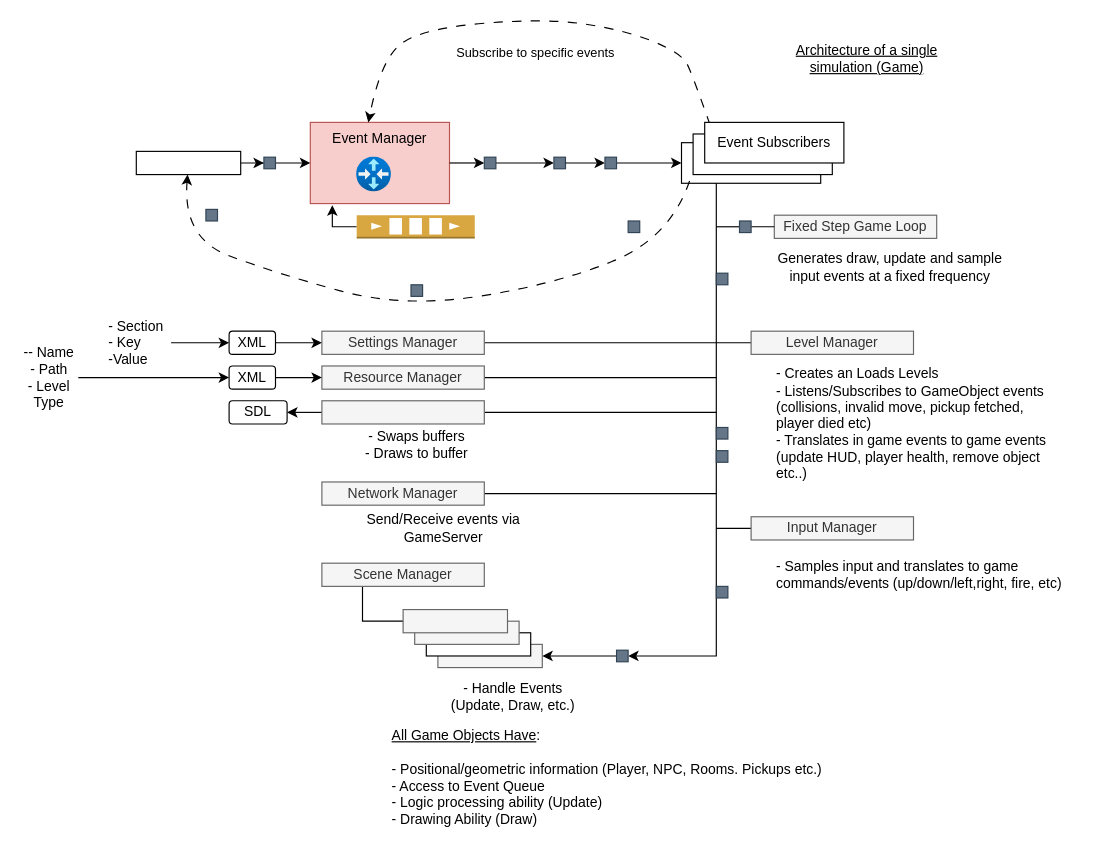
Image size: 1107x847. Some labels were removed from this diagram. The shapes that lost their labels are listed below. From the top down, each one's box as (x1, y1, x2, y2) in pixels, then its label:
(135, 150, 241, 175): Raise Events
(356, 214, 475, 238): Event Queue
(321, 400, 484, 424): Graphics Manager
(402, 608, 507, 633): Game Objects
